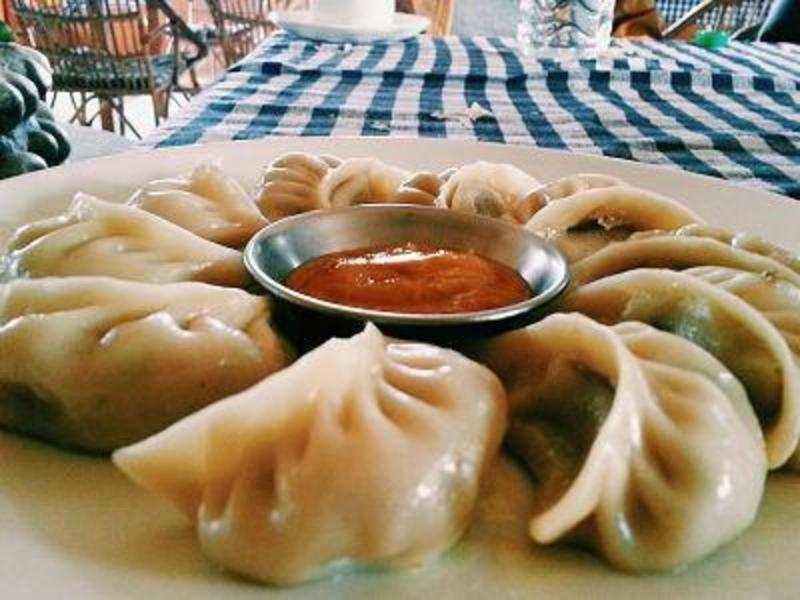momos: (114, 323, 506, 584), (475, 312, 769, 572), (477, 312, 769, 572), (0, 277, 292, 451), (563, 269, 800, 468), (572, 234, 800, 354), (12, 194, 248, 285), (256, 153, 441, 221), (130, 162, 269, 247), (527, 186, 705, 238), (436, 161, 541, 221)
